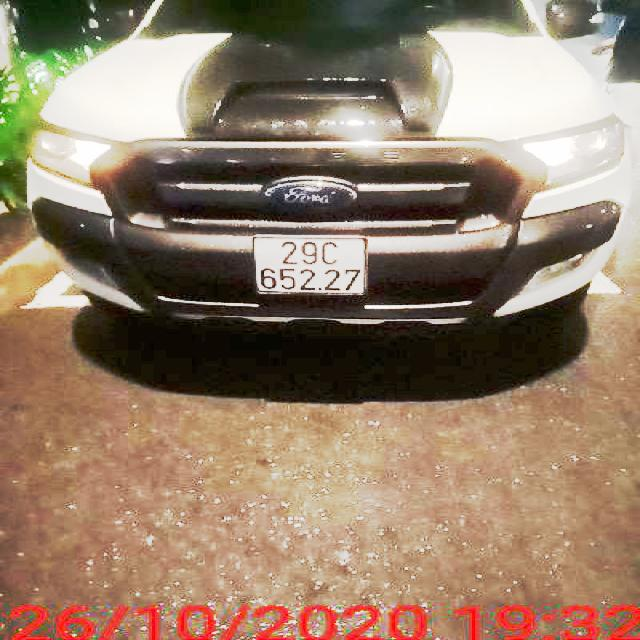license_plate: (257, 236, 366, 295)
